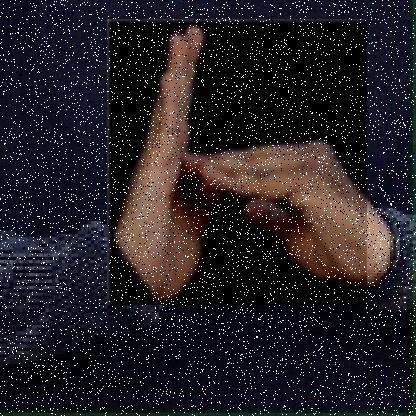Z: (107, 19, 368, 306)
